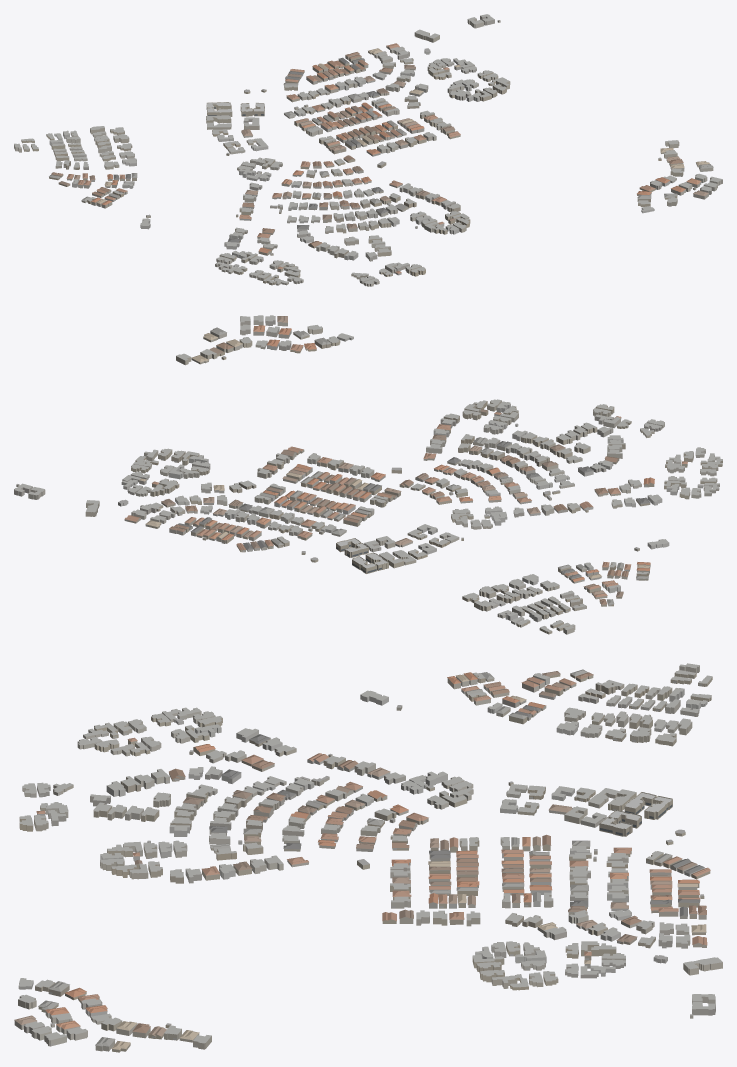
Rendered from buildings_r4_c2.glb.
3 views of the same model, one above another, from view 1: azimuth 30°, elevation 25°; view 2: azimuth 150°, elevation 25°; view 3: azimuth 270°, elevation 25° (orthographic). The views are drawn at different scales.
Visible parts, largest first — view 1: buildings_r4_c2; view 2: buildings_r4_c2; view 3: buildings_r4_c2.
Boxes of the visible parts, box(x1,y1,x2,y2) form: buildings_r4_c2: box(14, 14, 722, 286); buildings_r4_c2: box(14, 315, 722, 634); buildings_r4_c2: box(14, 663, 722, 1052).
Bounding box in the file's own units: 1042 × 47.41 × 818.
